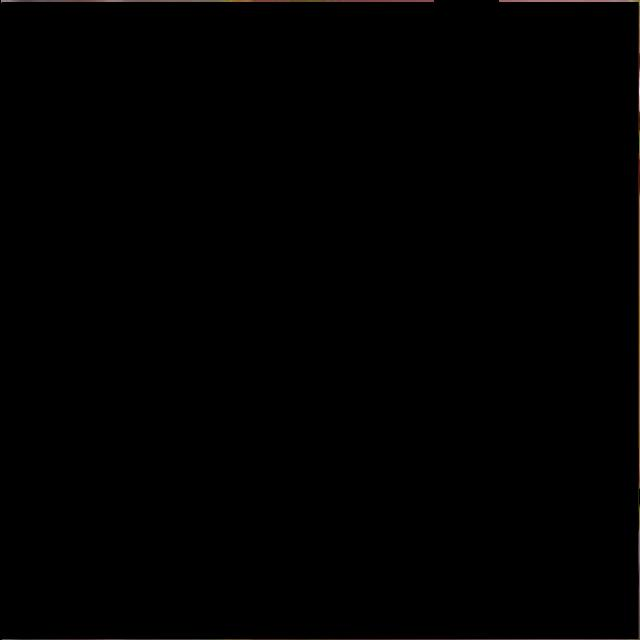fire: (1, 2, 638, 640)
